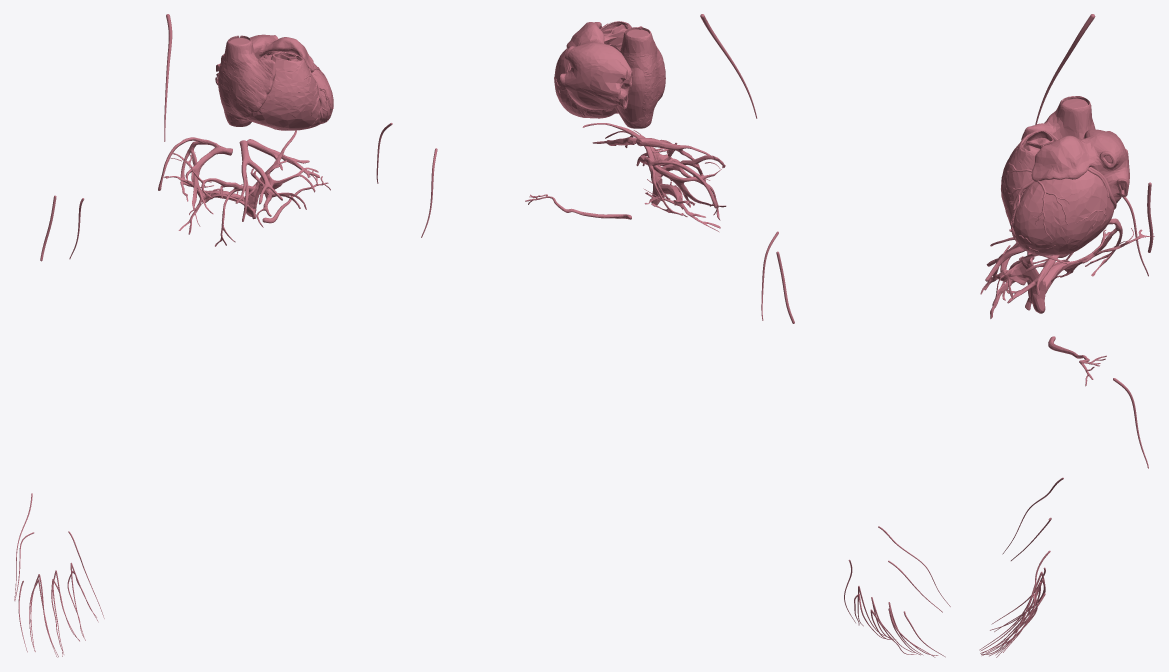
File: cardiovascular-06.glb
3 renders of one model, left to right at view 1: azimuth 30°, elevation 25°; view 2: azimuth 150°, elevation 25°; view 3: azimuth 270°, elevation 25°, orthographic. The views are drawn at different scales.
Visible parts, largest first — view 1: FJ2428, FJ2439, FJ2404, FJ2416, FJ2438, FJ2414, FJ2405; view 2: FJ2438, FJ2439, FJ2404, FJ2416, FJ2428, FJ2425, FJ2424; view 3: FJ2428, FJ2438, FJ2404, FJ2439, FJ2405, FJ2416, FJ2415, FJ2361, FJ2414, FJ2562, FJ2362.
Boxes of the visible parts, <box> form: FJ2428: <box>247,51,333,130</box>; FJ2439: <box>218,35,275,126</box>; FJ2404: <box>191,130,318,246</box>; FJ2416: <box>158,137,232,226</box>; FJ2438: <box>215,34,314,84</box>; FJ2414: <box>235,140,282,221</box>; FJ2405: <box>164,149,249,234</box>; FJ2438: <box>559,22,632,109</box>; FJ2439: <box>615,26,665,128</box>; FJ2404: <box>582,123,725,220</box>; FJ2416: <box>639,155,726,216</box>; FJ2428: <box>554,21,631,118</box>; FJ2425: <box>590,59,627,99</box>; FJ2424: <box>617,29,649,122</box>; FJ2428: <box>1001,130,1113,255</box>; FJ2438: <box>1031,129,1129,203</box>; FJ2404: <box>980,229,1067,318</box>; FJ2439: <box>1021,96,1095,143</box>; FJ2405: <box>1043,229,1154,293</box>; FJ2416: <box>1033,218,1122,276</box>; FJ2415: <box>1006,255,1059,303</box>; FJ2361: <box>1035,14,1095,124</box>; FJ2414: <box>985,237,1025,281</box>; FJ2562: <box>1048,336,1106,386</box>; FJ2362: <box>1147,182,1153,252</box>.
Bounding box in the file's own units: 0.5132 × 0.6675 × 0.1449.
